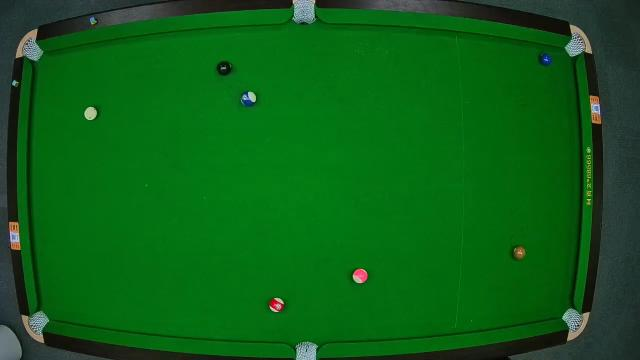bag1: (22, 38, 44, 60)
bag2: (291, 0, 317, 26)
bag3: (566, 29, 588, 57)
bag4: (29, 310, 49, 334)
bag5: (294, 340, 320, 360)
bag6: (563, 308, 585, 332)
ball0: (82, 105, 98, 122)
ball10: (240, 89, 258, 106)
ball11: (269, 295, 285, 313)
ball12: (353, 268, 369, 284)
ball2: (538, 51, 554, 67)
ball7: (512, 244, 526, 260)
ball8: (216, 62, 232, 77)
